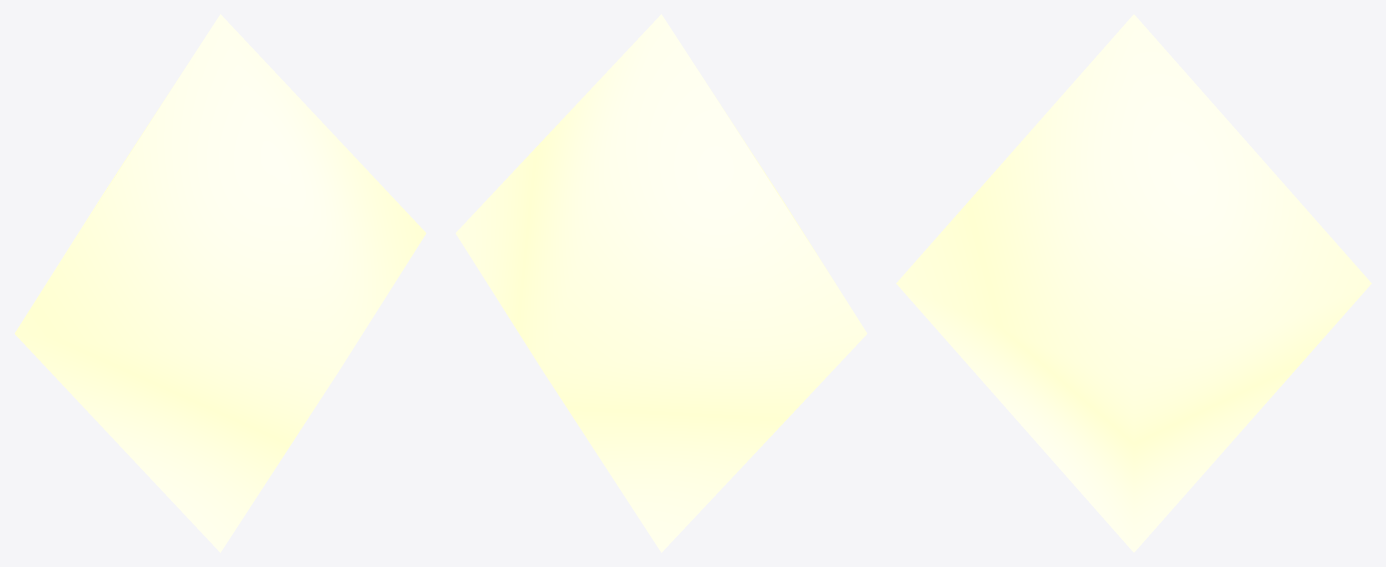
The model's file is SM_cv_gem_gold.glb.
3 views of the same model, side by side, from view 1: azimuth 30°, elevation 25°; view 2: azimuth 150°, elevation 25°; view 3: azimuth 270°, elevation 25° (orthographic).
Visible parts, largest first — view 1: SM_cv_gem_gold; view 2: SM_cv_gem_gold; view 3: SM_cv_gem_gold.
Boxes of the visible parts, left/top/right/bottom form: SM_cv_gem_gold: left=14, top=14, right=426, bottom=552; SM_cv_gem_gold: left=455, top=14, right=867, bottom=552; SM_cv_gem_gold: left=896, top=14, right=1371, bottom=552.
Size of the model in its own units: 0.64 by 0.8 by 0.64.
